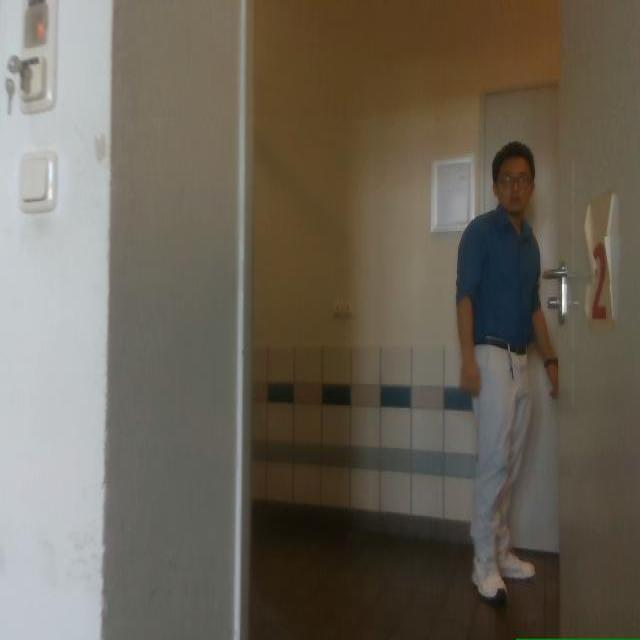humans: (457, 141, 558, 601)
objects: (551, 0, 639, 635)
